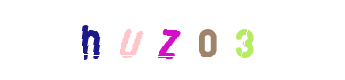0: (157, 0, 237, 80)
3: (203, 0, 283, 80)
H: (50, 0, 130, 80)
U: (128, 0, 208, 80)
Z: (132, 0, 212, 80)
